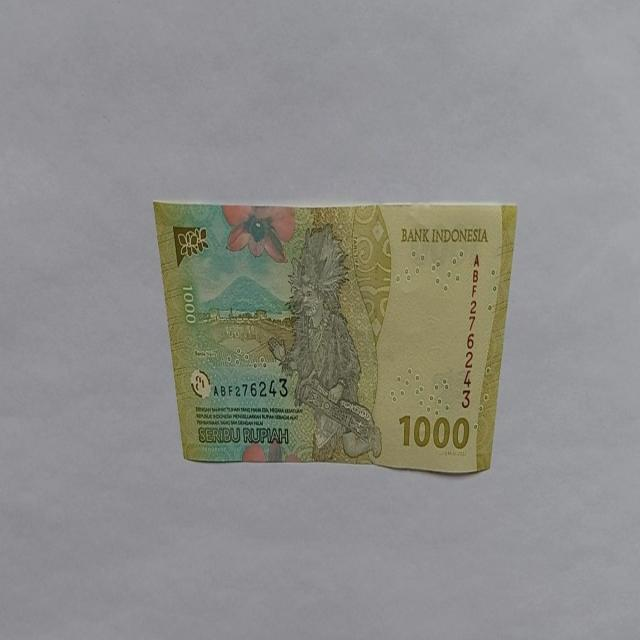seribu rupiah kertas: (152, 199, 518, 473)
